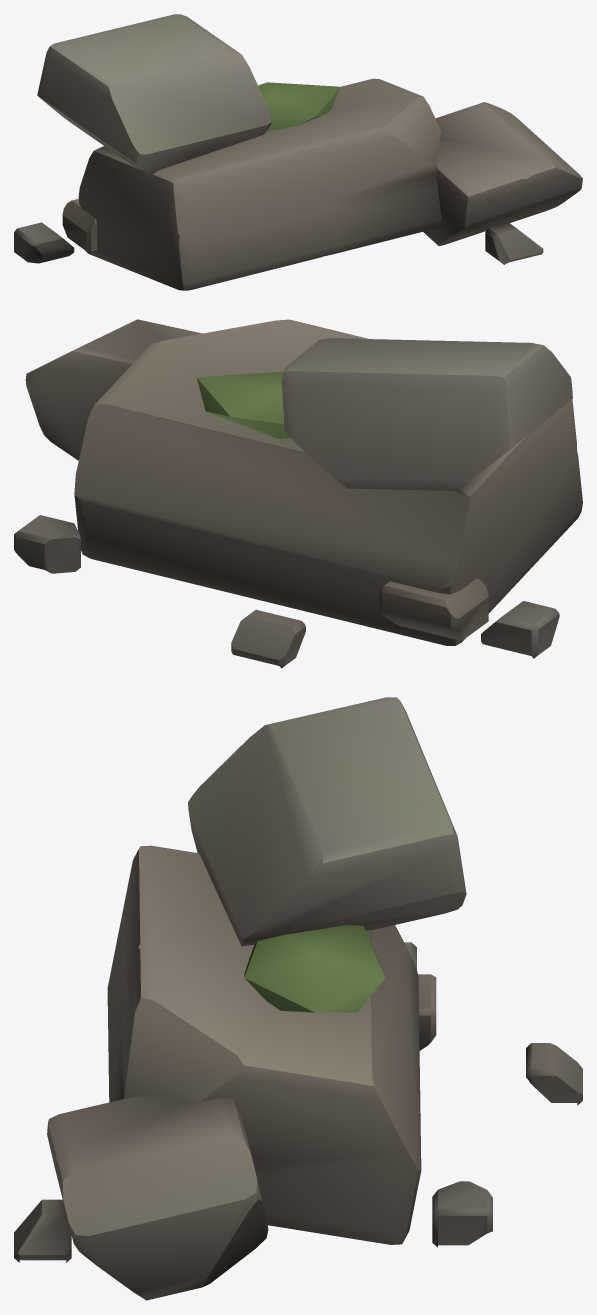
File: ruins-rubble-b-v2.glb
3 views of the same model, one above another, from view 1: azimuth 30°, elevation 25°; view 2: azimuth 150°, elevation 25°; view 3: azimuth 270°, elevation 25° (orthographic). The views are drawn at different scales.
Parts seen in each view (by area): view 1: 0_ruins_rubble_1; view 2: 0_ruins_rubble_1; view 3: 0_ruins_rubble_1.
Part boxes in pixels (<box>): 0_ruins_rubble_1: <box>14,14,582,290</box>; 0_ruins_rubble_1: <box>14,319,582,668</box>; 0_ruins_rubble_1: <box>14,697,582,1300</box>.
Size of the model in its own units: 1.41 by 0.6433 by 1.03.
